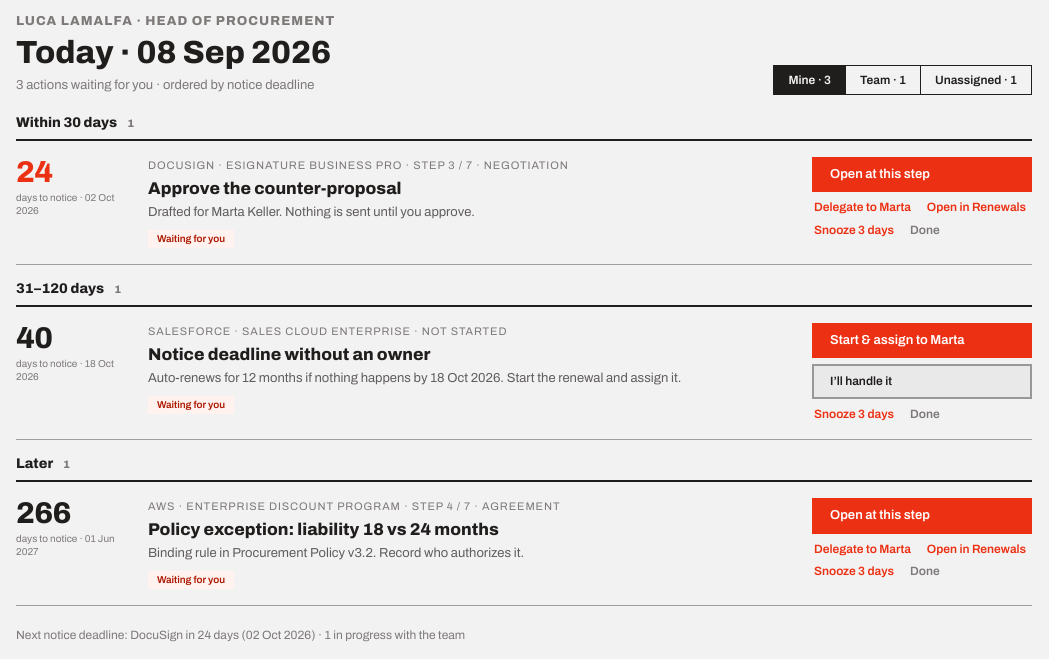
Scenario: Today › the approver starts and assigns an unowned renewal; it leaves Unassigned and joins the team
What coordinates should you click on to do the following:
click the button "Start & assign to Marta"
I would click on:
 (922, 341)
Its box is [812, 323, 1032, 358].
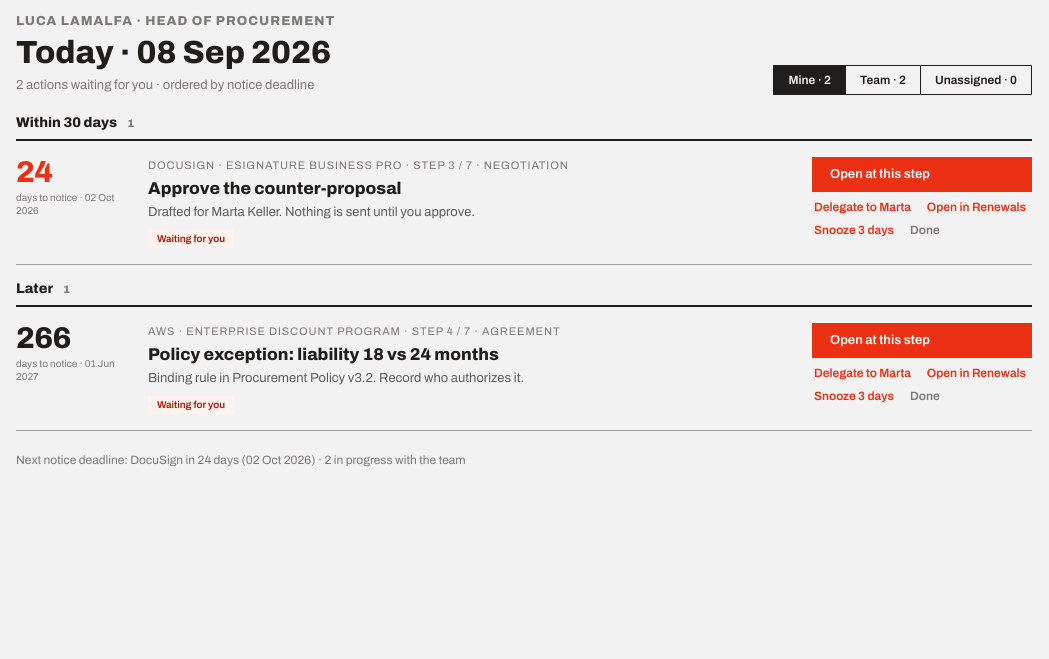
Now the buttons read "Mine · 2", "Team · 2", "Unassigned · 0", in this order, box [774, 66, 846, 94]; [846, 66, 921, 94]; [921, 66, 1031, 94]
